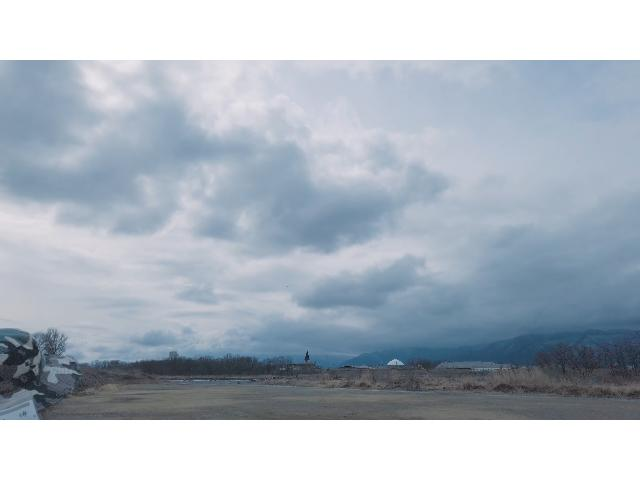Anti-Drone: (282, 278, 294, 294)
